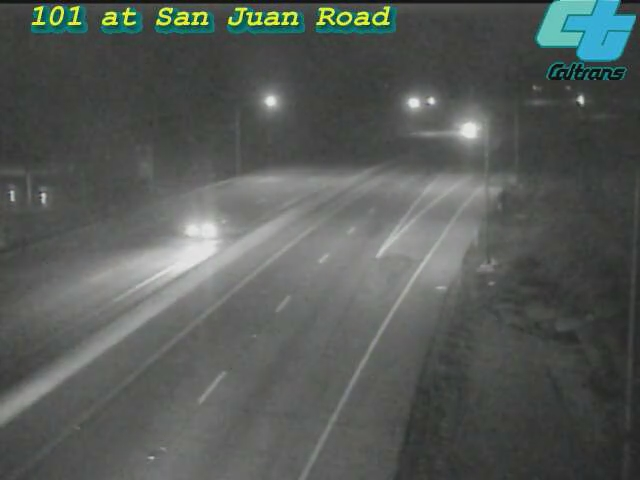vehicle: (156, 189, 236, 269), (447, 105, 497, 155)
